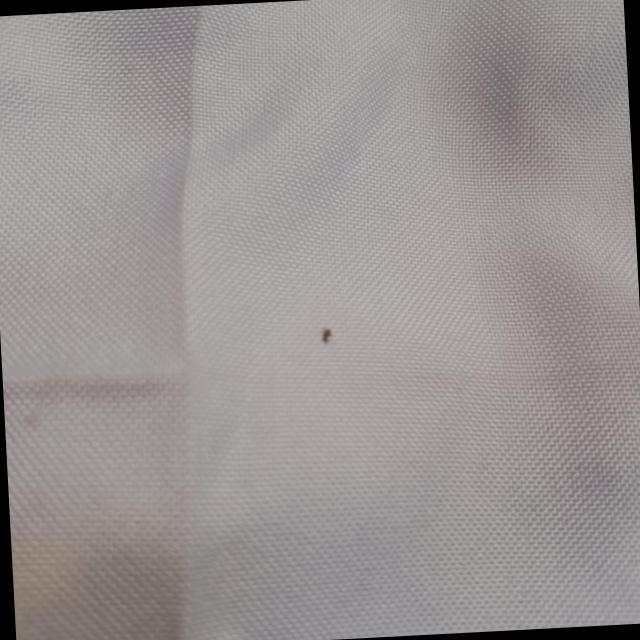stain: (306, 316, 356, 356)
